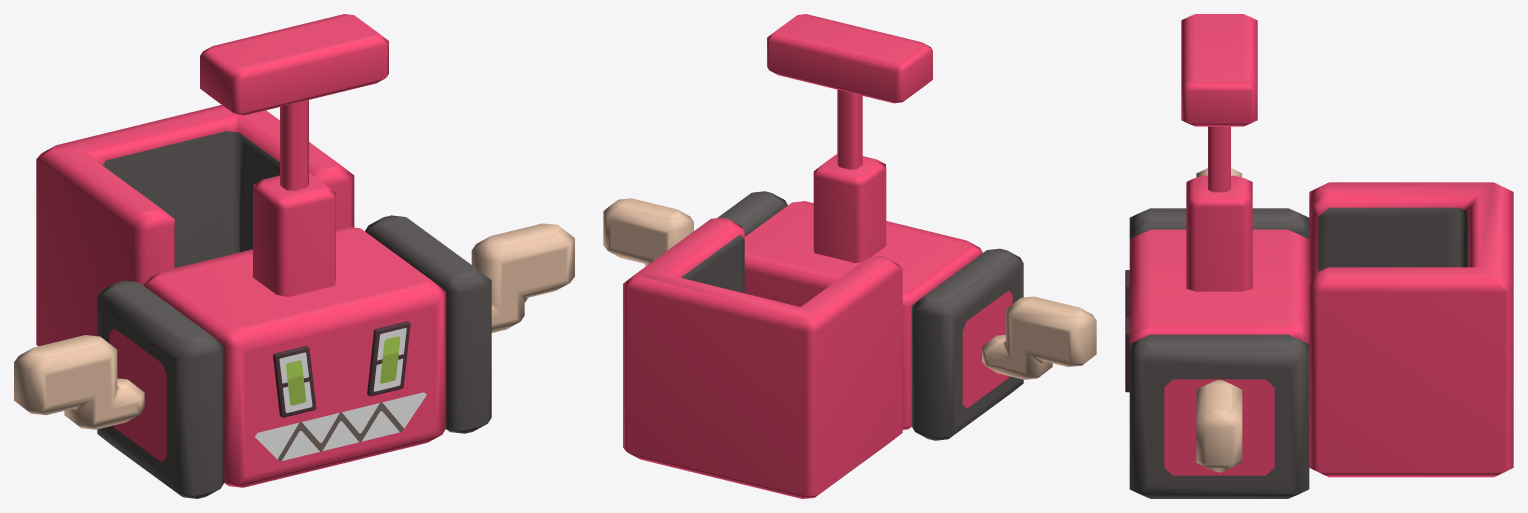
The model's file is model_shiny.obj.
The picture shows the model from 3 angles, left to right: view 1: azimuth 30°, elevation 25°; view 2: azimuth 150°, elevation 25°; view 3: azimuth 270°, elevation 25°; orthographic projection. The views are drawn at different scales.
Visible parts, largest first — view 1: 0479_rotom_mow_shiny; view 2: 0479_rotom_mow_shiny; view 3: 0479_rotom_mow_shiny.
Part boxes in pixels (x1,y1,x2,y2): 0479_rotom_mow_shiny: [14, 14, 574, 498]; 0479_rotom_mow_shiny: [603, 14, 1096, 498]; 0479_rotom_mow_shiny: [1125, 14, 1513, 498].
Size of the model in its own units: 2.52 by 1.73 by 1.6.
Materials: 1 (1 with a texture image).
